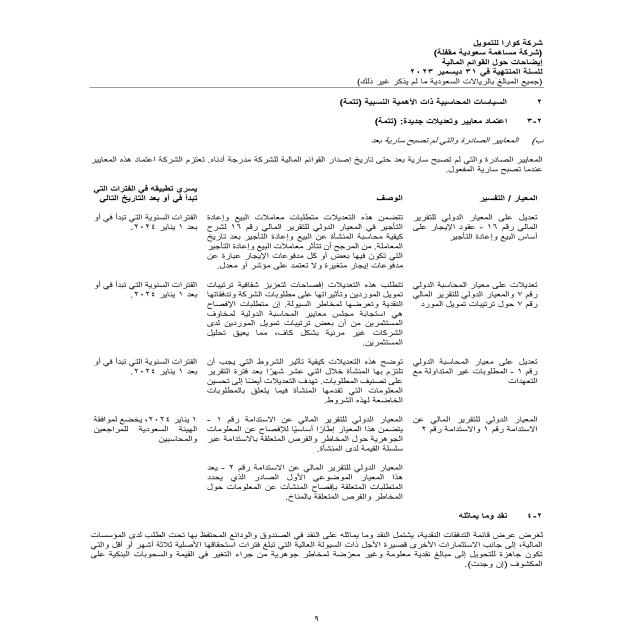notes: (431, 59, 543, 67)
text: (63, 76, 547, 579)
